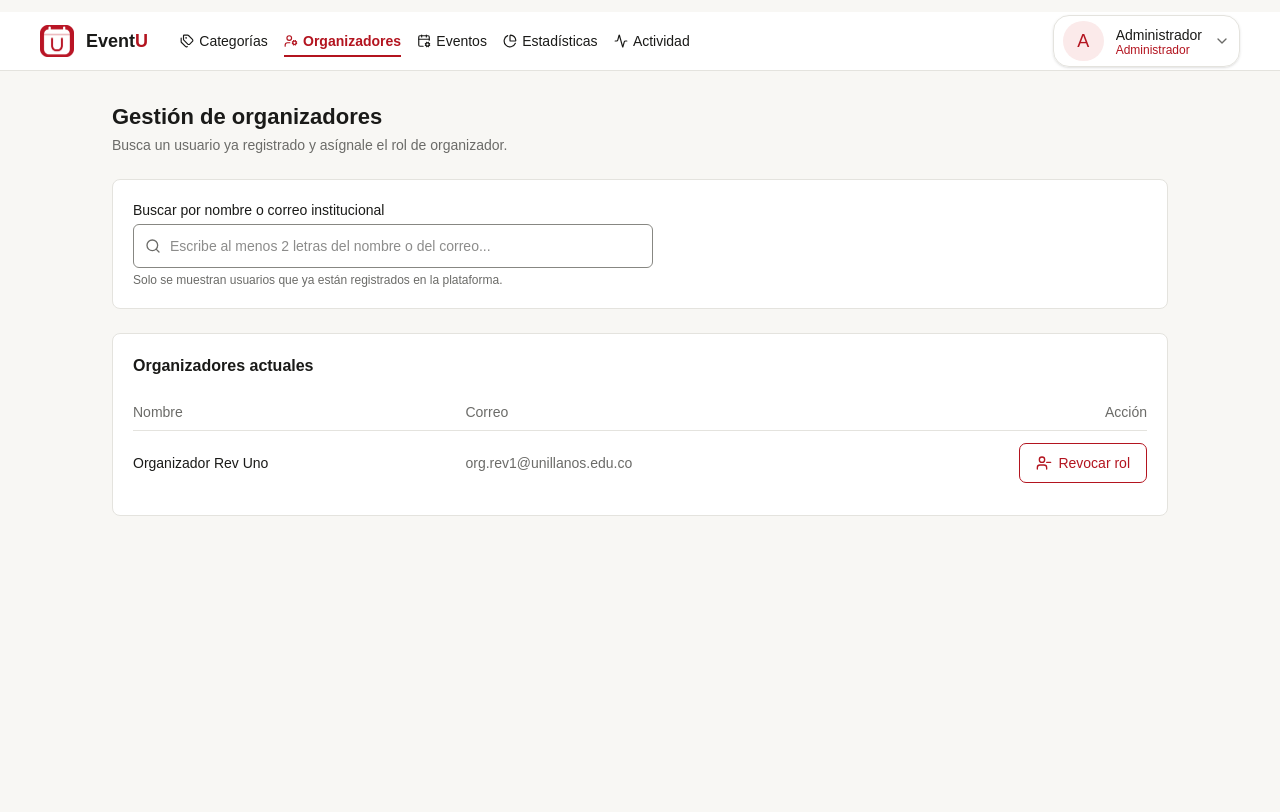
Asignación de organizadores (HU-03) › busca un usuario y le asigna el rol de organizador
Type "Estudiante" into the search field.
click(393, 246); type("Estudiante")  # box [133, 224, 653, 268]
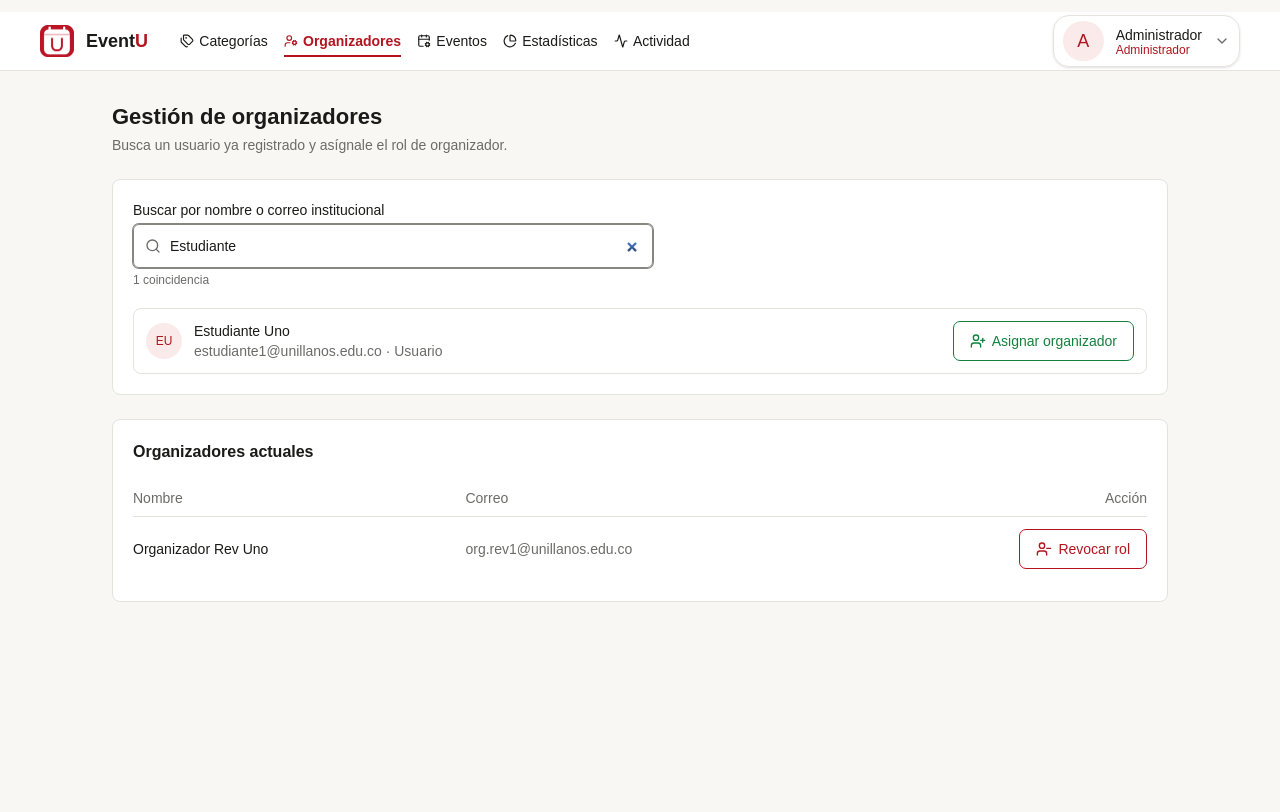
Click the button with aria-label "Asignar organizador a Estudiante Uno".
click(1043, 341)  # box [953, 321, 1134, 361]
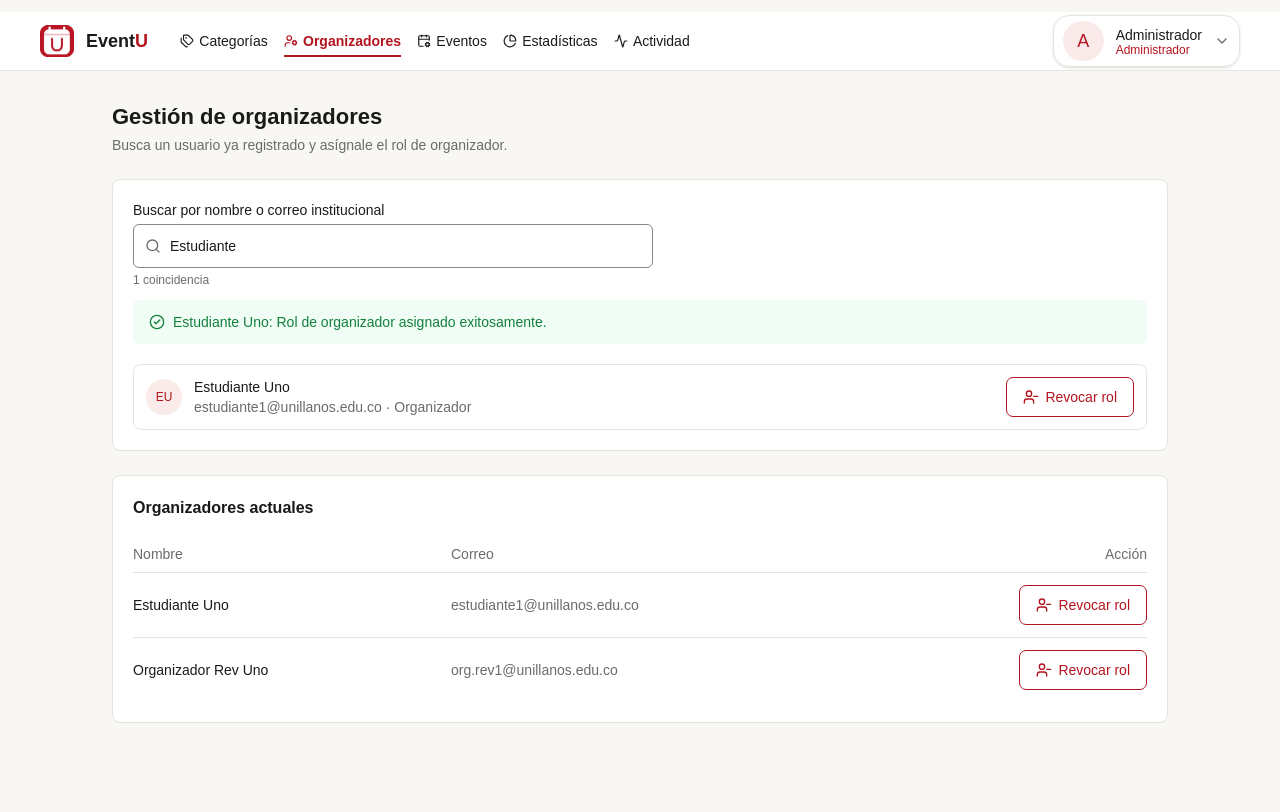
Result: the message shows "Rol de organizador asignado exitosamente." at [173, 314, 547, 330]
Result: the button with aria-label "Revocar rol de organizador a Estudiante Uno" is shown at [1006, 377, 1134, 417]
